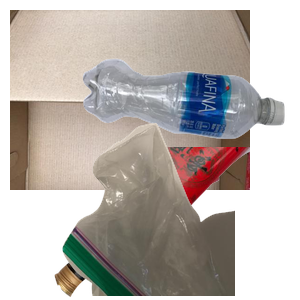cardboard: (10, 10, 250, 190)
glass: (52, 147, 292, 300)
plastic: (80, 56, 300, 187)
trash: (60, 120, 300, 300)
